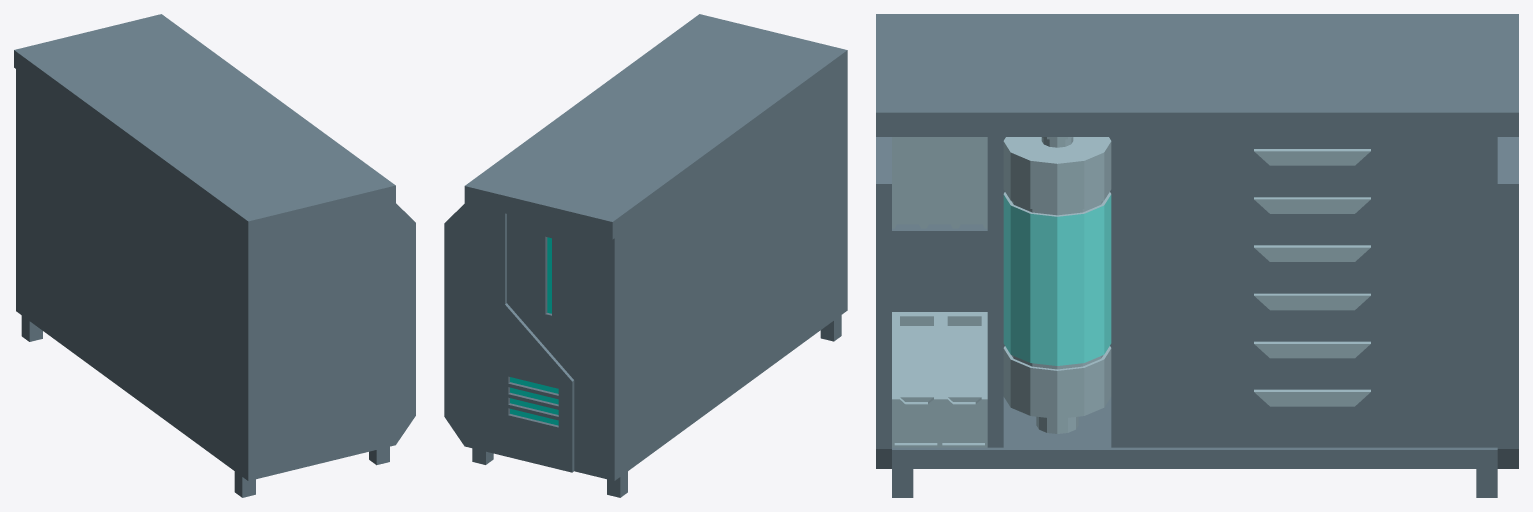
The model's file is table-drawer.fbx.
3 renders of one model, left to right at view 1: azimuth 30°, elevation 25°; view 2: azimuth 150°, elevation 25°; view 3: azimuth 270°, elevation 25°, orthographic. The views are drawn at different scales.
Visible parts, largest first — view 1: table-drawer; view 2: table-drawer; view 3: table-drawer.
Part boxes in pixels (<box>): table-drawer: <box>14,14,415,497</box>; table-drawer: <box>444,14,847,497</box>; table-drawer: <box>876,14,1518,497</box>.
Size of the model in its own units: 25 by 40 by 60.5.
